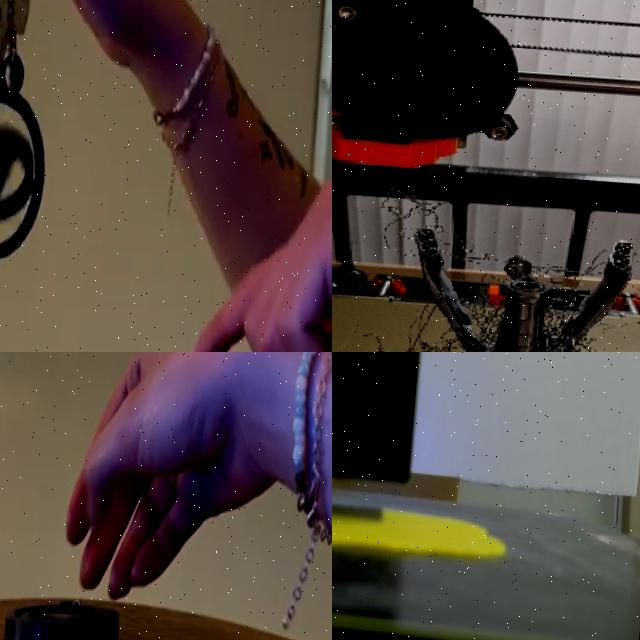spaghetti: (332, 160, 640, 352)
